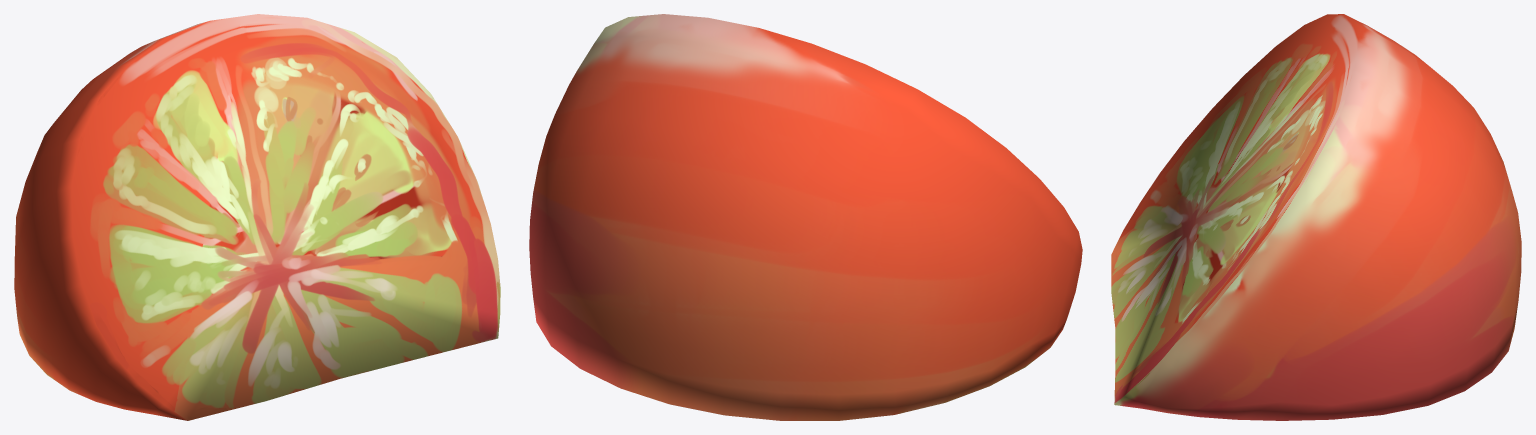
The model's file is Tomato.fbx.
3 views of the same model, side by side, from view 1: azimuth 30°, elevation 25°; view 2: azimuth 150°, elevation 25°; view 3: azimuth 270°, elevation 25° (orthographic). The views are drawn at different scales.
Parts seen in each view (by area): view 1: Cube; view 2: Cube; view 3: Cube.
Part boxes in pixels (x1,y1,x2,y2): Cube: [14, 14, 500, 420]; Cube: [529, 14, 1082, 420]; Cube: [1111, 14, 1521, 420].
Size of the model in its own units: 315 by 204 by 264.
